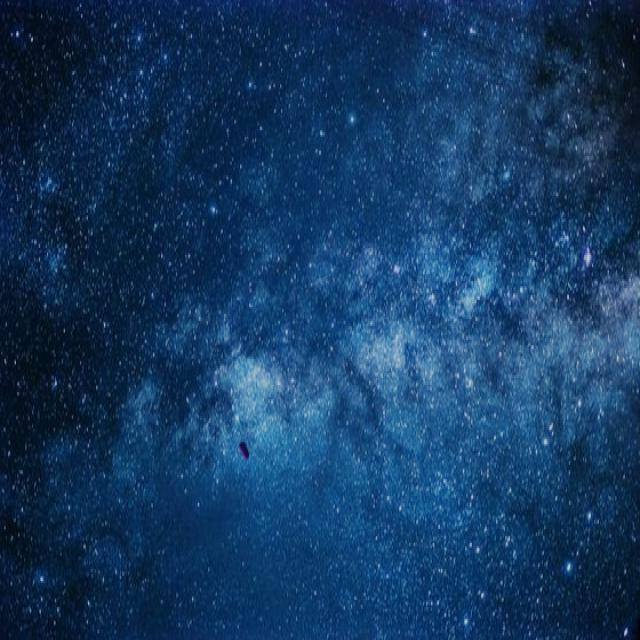large_debris: (237, 439, 249, 459)
